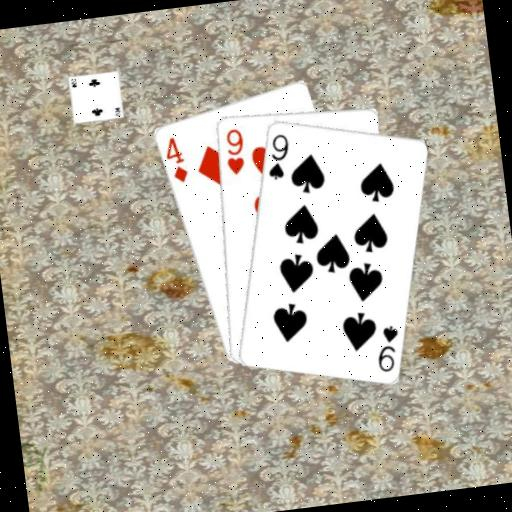4D: (161, 132, 190, 185)
9H: (220, 124, 249, 177)
9S: (261, 130, 294, 183), (371, 321, 404, 374)
